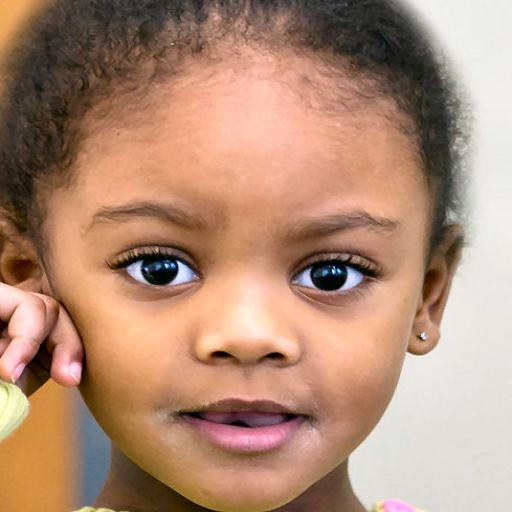Autism: (10, 11, 507, 491)
